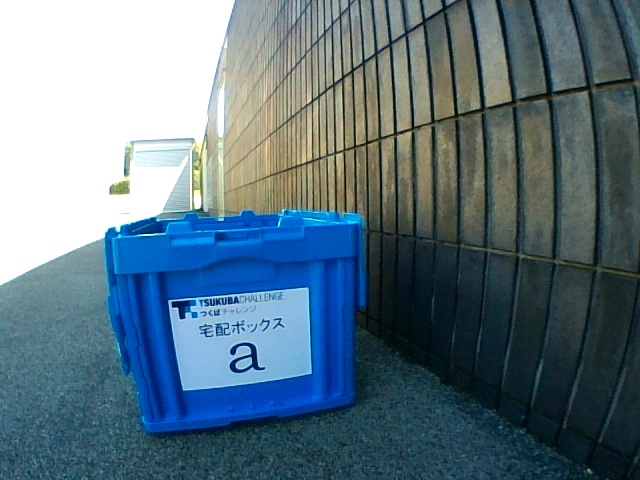blue_box: (104, 209, 364, 433)
tag_a: (189, 306, 292, 377)
